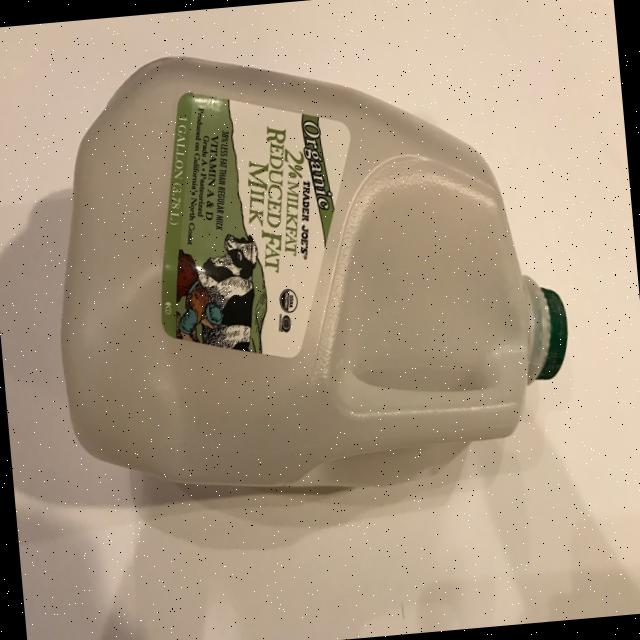plastic: (35, 22, 579, 507)
